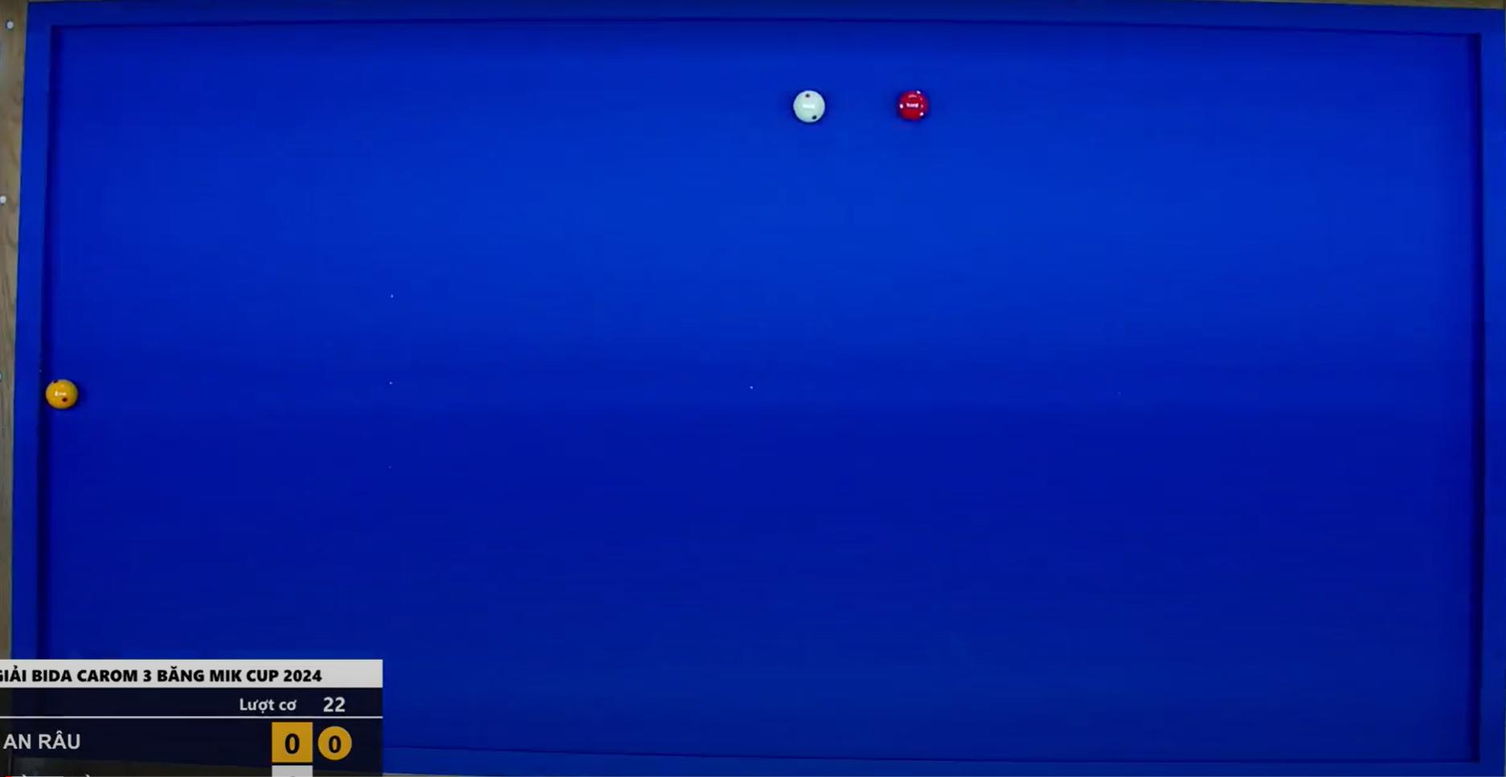red ball: (892, 84, 938, 132)
white ball: (784, 86, 833, 134)
yellow ball: (37, 370, 84, 420)
